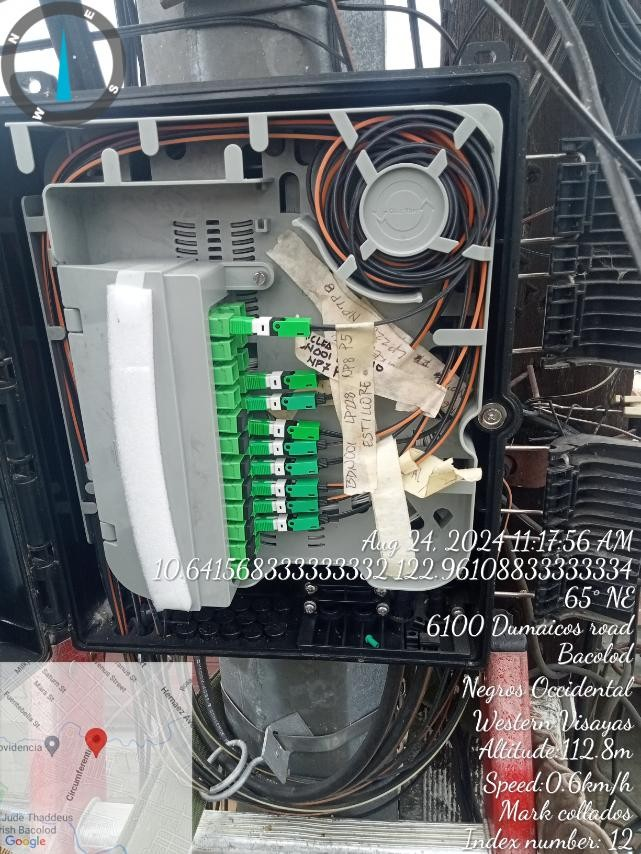no dust cap: (238, 303, 250, 323), (239, 326, 250, 346), (242, 349, 250, 370), (231, 363, 239, 384), (234, 386, 241, 410), (229, 339, 237, 359), (255, 535, 262, 554)
occupied: (248, 390, 328, 412), (250, 417, 322, 440), (230, 317, 315, 336), (252, 456, 328, 477), (247, 371, 321, 392), (254, 495, 329, 515), (253, 478, 331, 497), (250, 438, 329, 456), (256, 514, 330, 533)
vacant: (239, 430, 250, 454), (239, 409, 248, 434), (242, 456, 250, 481), (244, 478, 252, 501), (245, 498, 253, 521), (250, 556, 258, 579), (248, 536, 255, 558), (247, 518, 253, 541)
